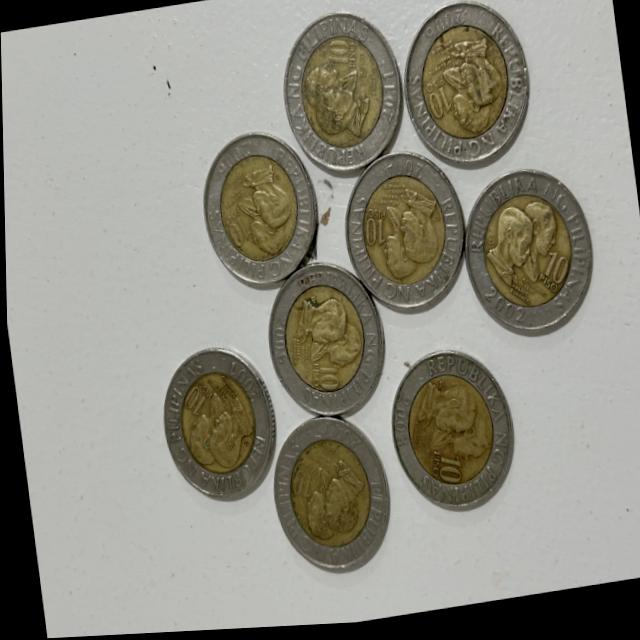10_Old_Front: (521, 242, 578, 313), (417, 438, 464, 506), (345, 199, 393, 263)
